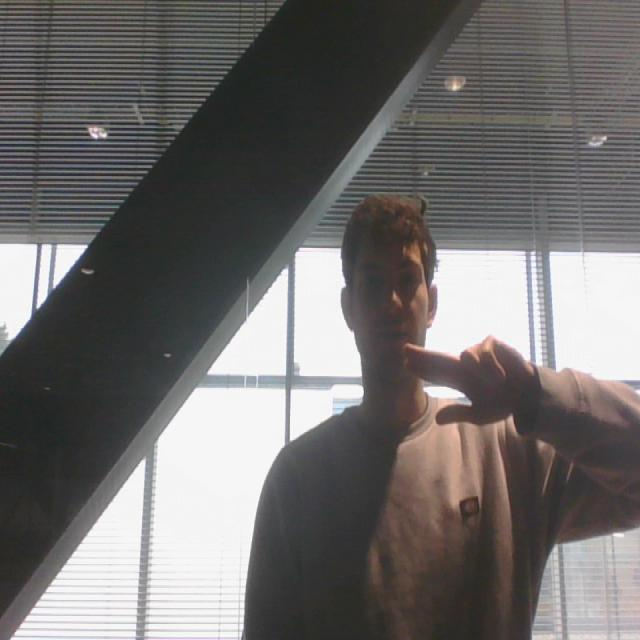left: (397, 318, 544, 434)
